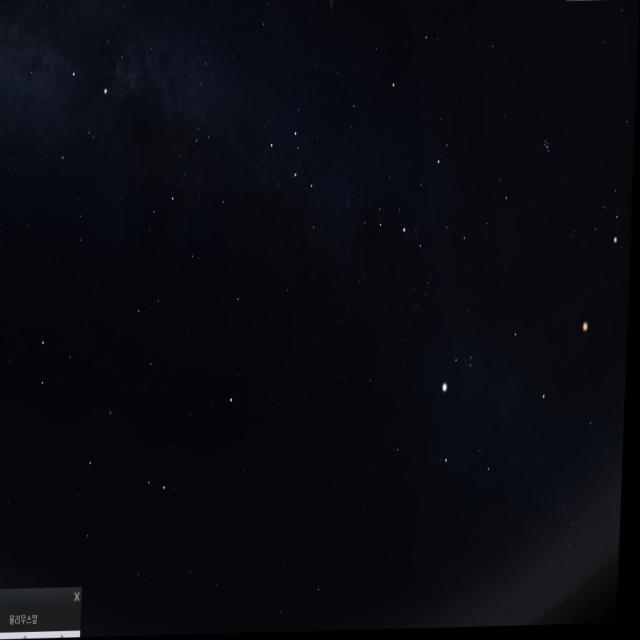cassiopeia: (261, 106, 337, 236)
pleiades: (537, 134, 559, 184)
